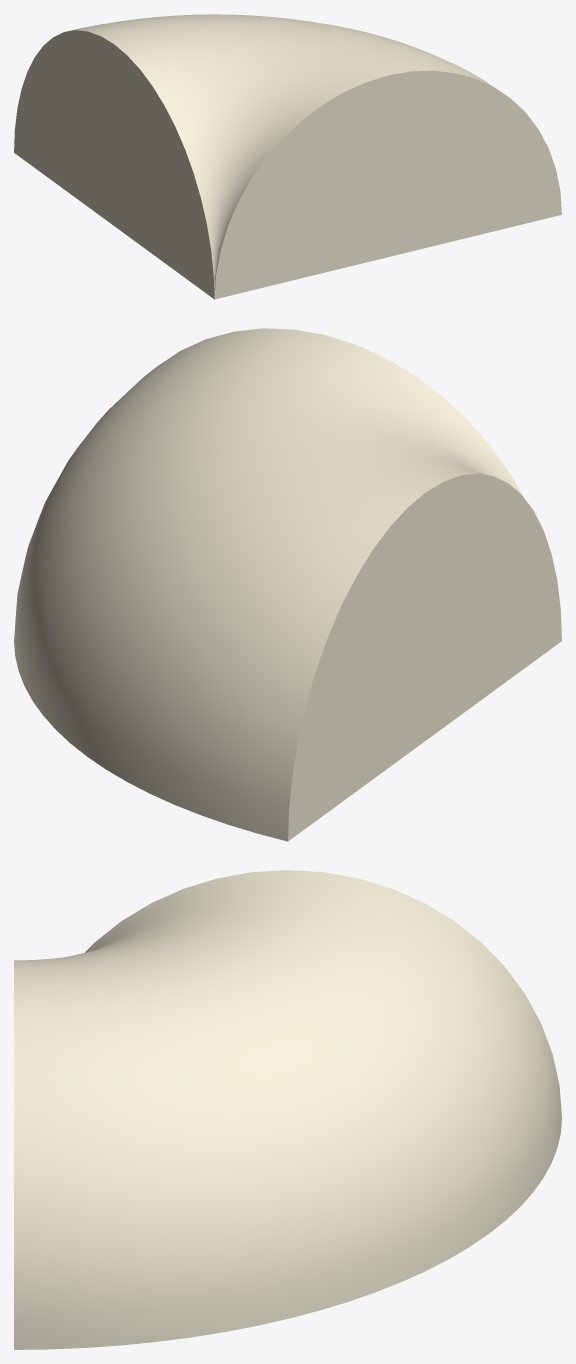
The model's file is AFJ_Rounded_Wall_Corner.fbx.
3 views of the same model, one above another, from view 1: azimuth 30°, elevation 25°; view 2: azimuth 150°, elevation 25°; view 3: azimuth 270°, elevation 25° (orthographic). The views are drawn at different scales.
Visible parts, largest first — view 1: Wall_Rounded_Elbow; view 2: Wall_Rounded_Elbow; view 3: Wall_Rounded_Elbow.
Part boxes in pixels (x1=…): Wall_Rounded_Elbow: x1=14, y1=14, x2=561, y2=299; Wall_Rounded_Elbow: x1=14, y1=328, x2=561, y2=841; Wall_Rounded_Elbow: x1=14, y1=870, x2=561, y2=1349.
Bounding box in the file's own units: 50 × 25 × 50.
